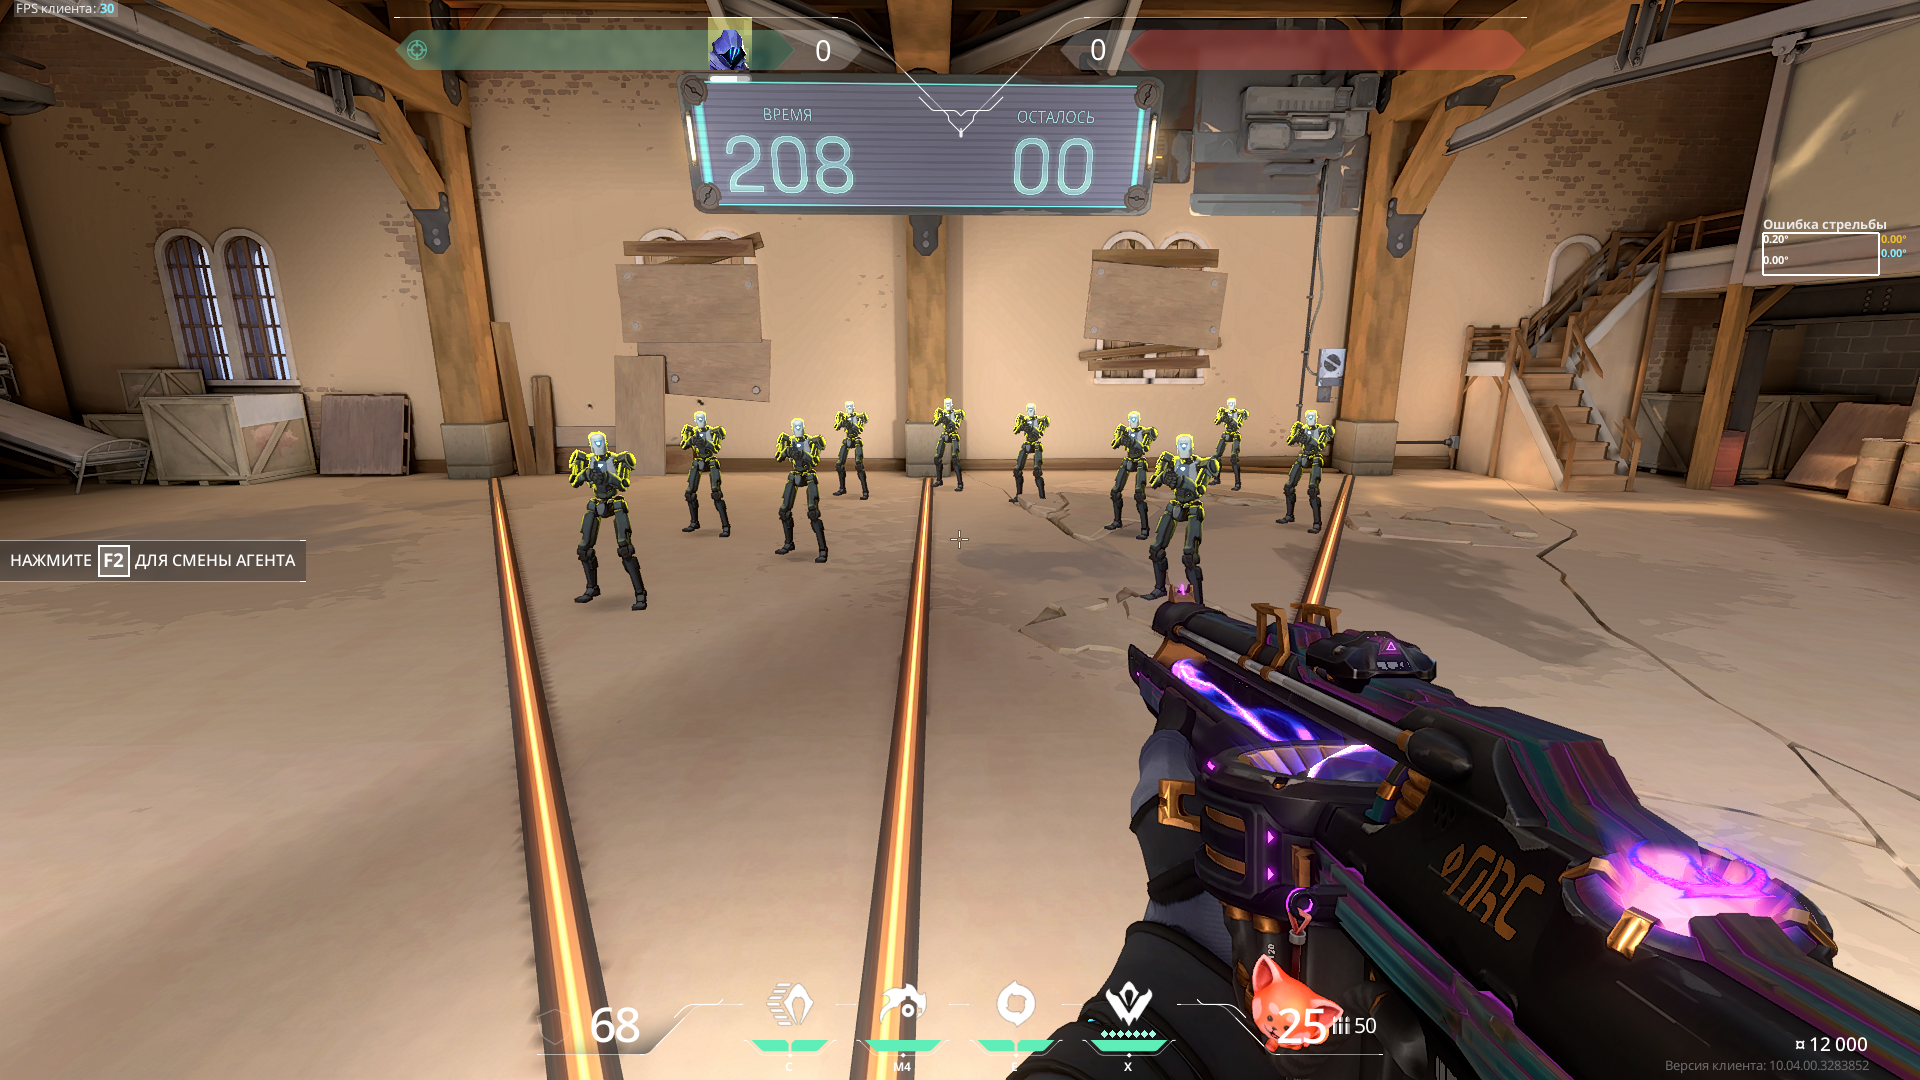head: (588, 432, 608, 456), (1176, 434, 1194, 458), (791, 418, 805, 437), (694, 411, 707, 428), (1128, 411, 1140, 428), (1305, 410, 1318, 426), (1026, 403, 1036, 418), (845, 401, 855, 414), (944, 398, 953, 411), (1227, 398, 1236, 410)
